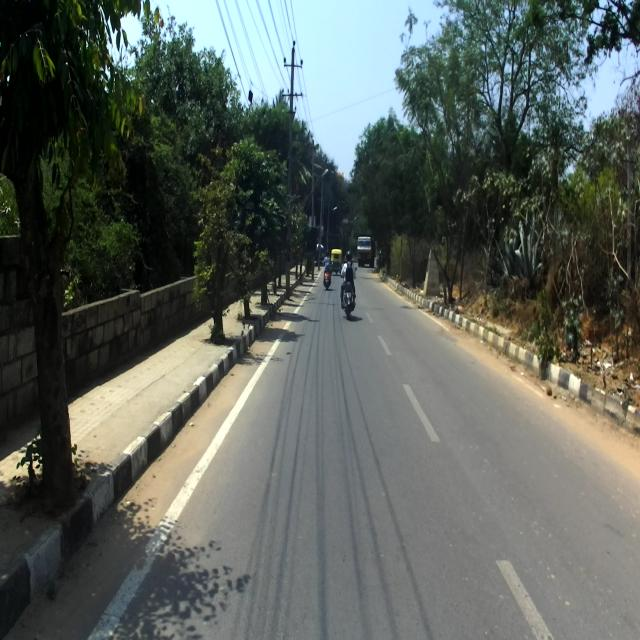electric pole ahead at: (274, 31, 306, 304)
tree ahead at: (6, 145, 79, 506), (196, 198, 239, 356)
